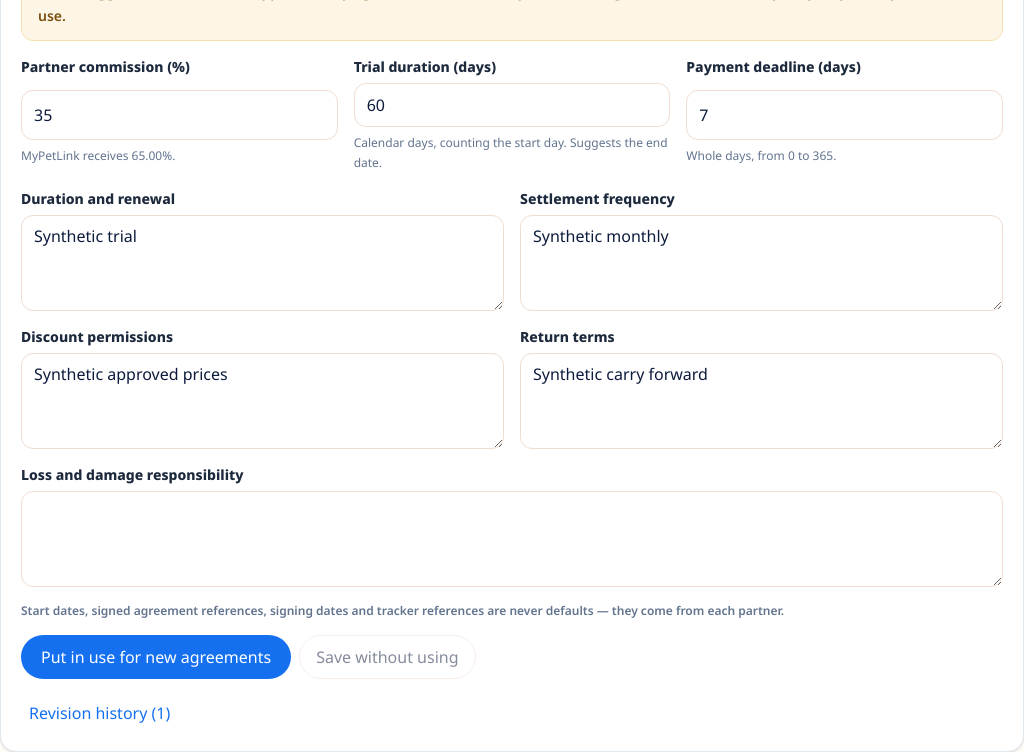
Test case: Default agreement terms › refuses to put incomplete defaults in use
(page scrolled)
Click the button "Put in use for new agreements".
click(156, 657)  # box [21, 635, 291, 679]
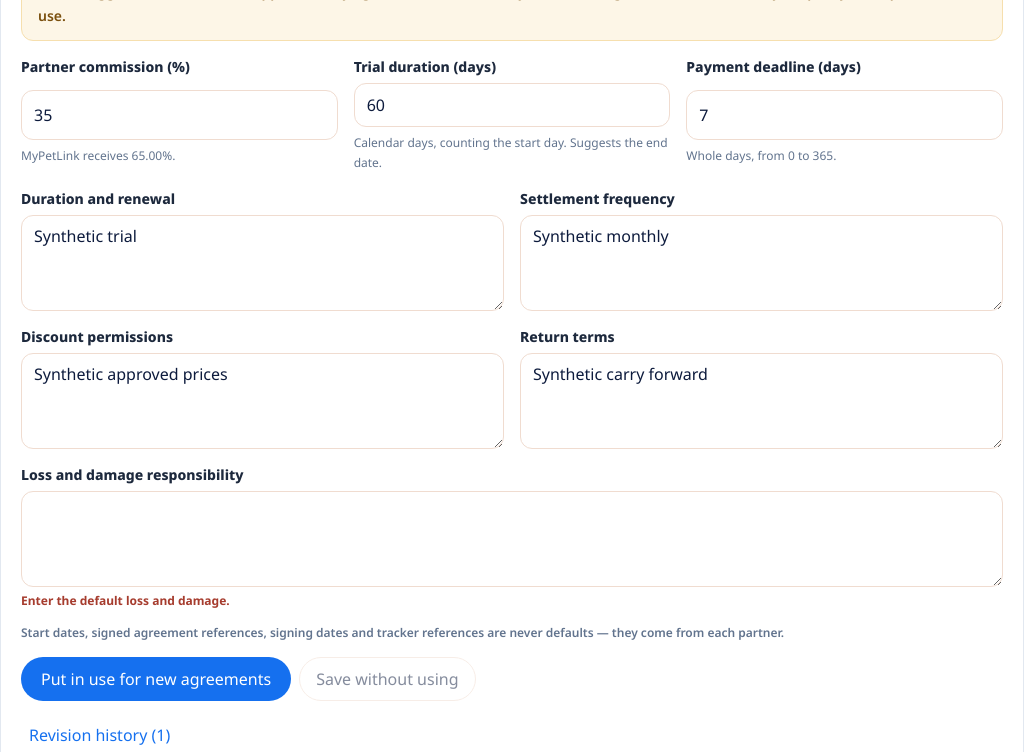
Expected: the text "Enter the default loss and damage." is shown, [21, 592, 230, 609]
